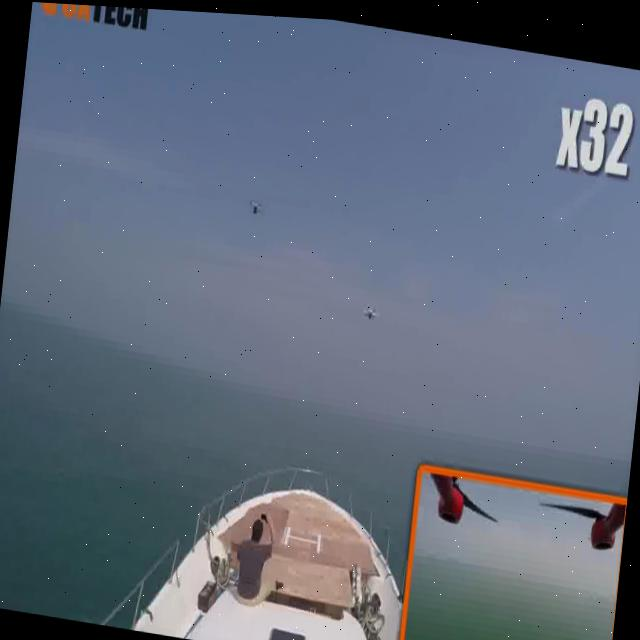drone: (238, 187, 273, 228), (360, 282, 380, 324)
